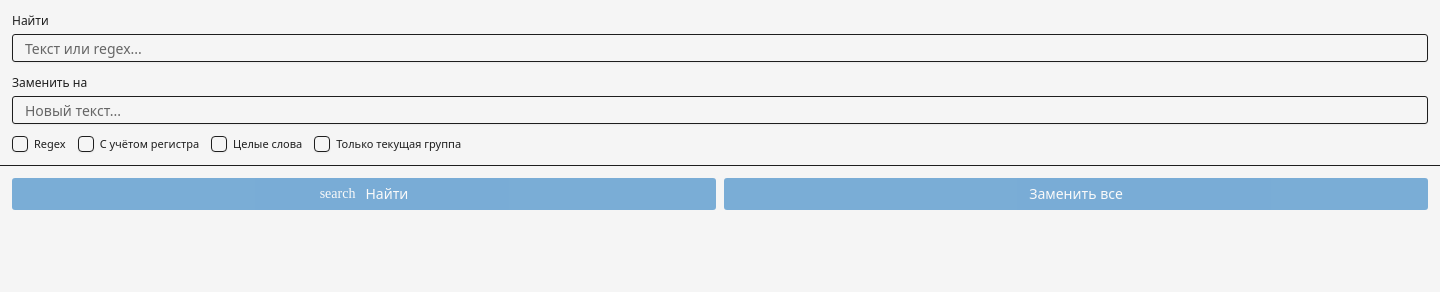
FindReplacePanel › should find matching phrases
Step 1. Type "купить" into the field with placeholder "Текст или regex..." → (720, 48), box [12,34,1428,62]
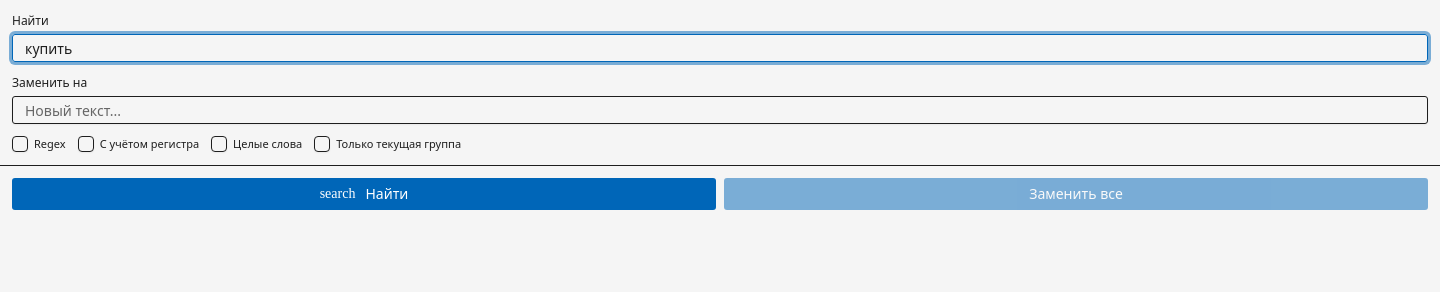
Use getByRole for the button since "Найти" appears as both label and button
Step 2. Click the button "Найти" → (364, 194), box [12,178,716,210]
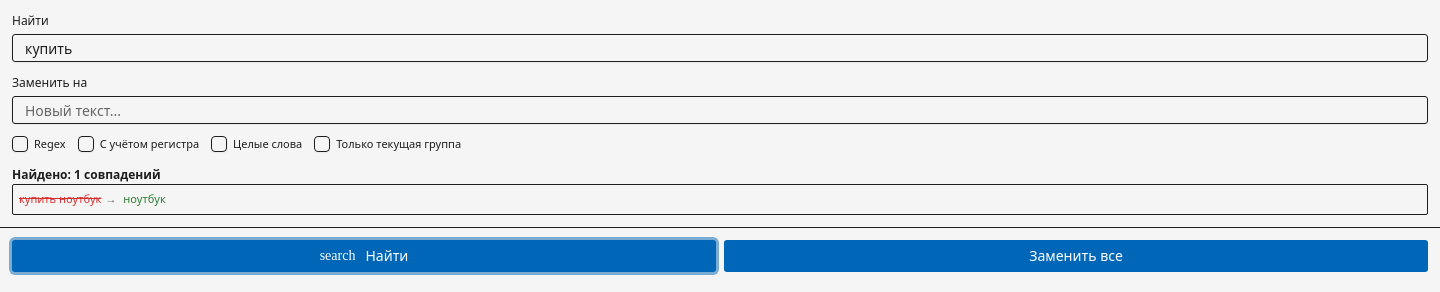
Expected: the text "Найдено: 1 совпадений" is shown, [12,166,160,182]
